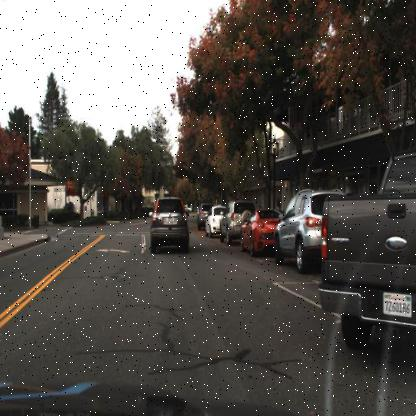car: (319, 146, 415, 352), (270, 186, 349, 280), (146, 193, 192, 260), (240, 206, 285, 257), (218, 198, 258, 243), (202, 202, 229, 238)
